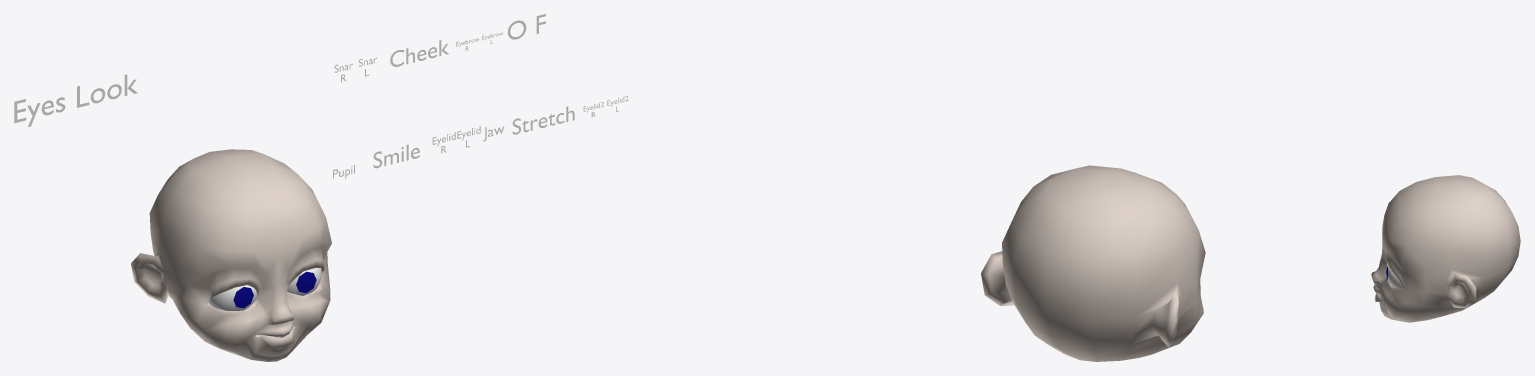
Rendered from Marisol.glb.
The picture shows the model from 3 angles, left to right: view 1: azimuth 30°, elevation 25°; view 2: azimuth 150°, elevation 25°; view 3: azimuth 270°, elevation 25°; orthographic projection. The views are drawn at different scales.
Parts seen in each view (by area): view 1: Head, Font.015, Eye.R; view 2: Head; view 3: Head, Eye.L.
Part boxes in pixels (bbox=[...]): Head: bbox=[131, 149, 331, 361]; Font.015: bbox=[14, 74, 137, 126]; Eye.R: bbox=[209, 285, 256, 310]; Head: bbox=[981, 165, 1205, 361]; Head: bbox=[1371, 175, 1520, 322]; Eye.L: bbox=[1388, 267, 1404, 288].
Size of the model in its own units: 24.78 by 11.09 by 6.78.
